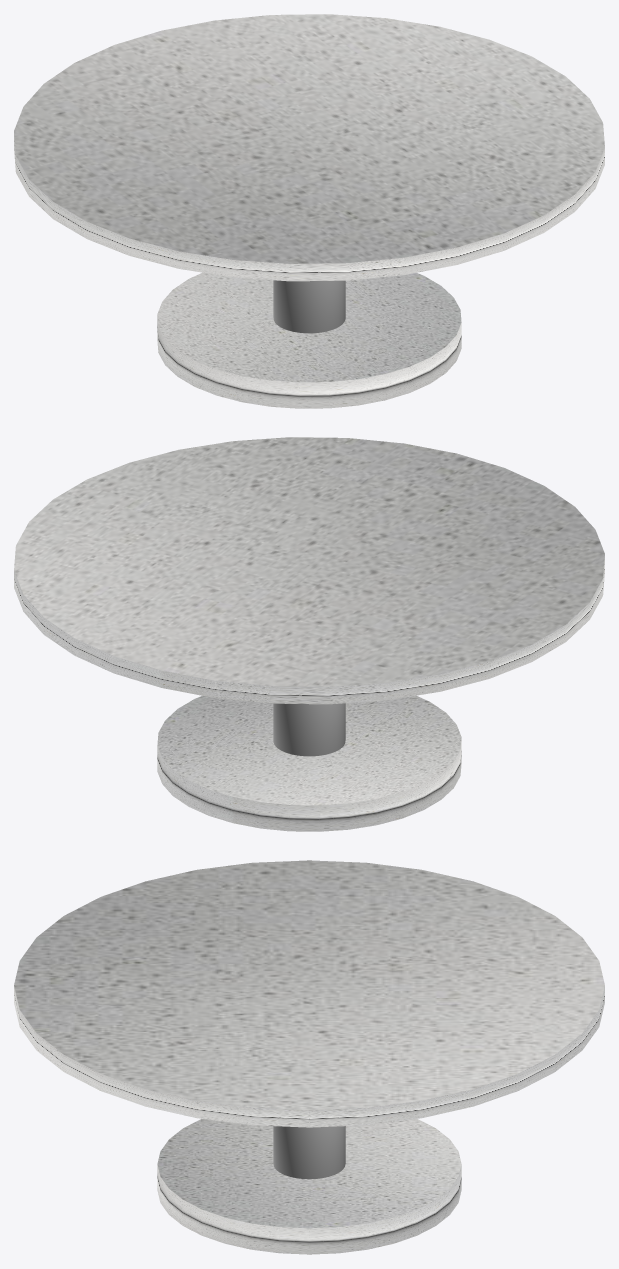
The model's file is plastic_table.obj.
3 views of the same model, one above another, from view 1: azimuth 30°, elevation 25°; view 2: azimuth 150°, elevation 25°; view 3: azimuth 270°, elevation 25° (orthographic).
Parts seen in each view (by area): view 1: Cylinder.001, Cylinder.002, Cylinder; view 2: Cylinder.001, Cylinder.002, Cylinder; view 3: Cylinder.001, Cylinder.002, Cylinder.
Boxes of the visible parts, x1=… form: Cylinder.001: x1=14, y1=14, x2=604, y2=281; Cylinder.002: x1=157, y1=272, x2=461, y2=408; Cylinder: x1=273, y1=280, x2=345, y2=333; Cylinder.001: x1=14, y1=437, x2=604, y2=704; Cylinder.002: x1=157, y1=695, x2=461, y2=831; Cylinder: x1=273, y1=703, x2=345, y2=756; Cylinder.001: x1=14, y1=860, x2=604, y2=1127; Cylinder.002: x1=157, y1=1118, x2=461, y2=1254; Cylinder: x1=273, y1=1126, x2=345, y2=1179.
Bounding box in the file's own units: 5.84 × 2.23 × 5.84.
Materials: 1 (1 with a texture image).
